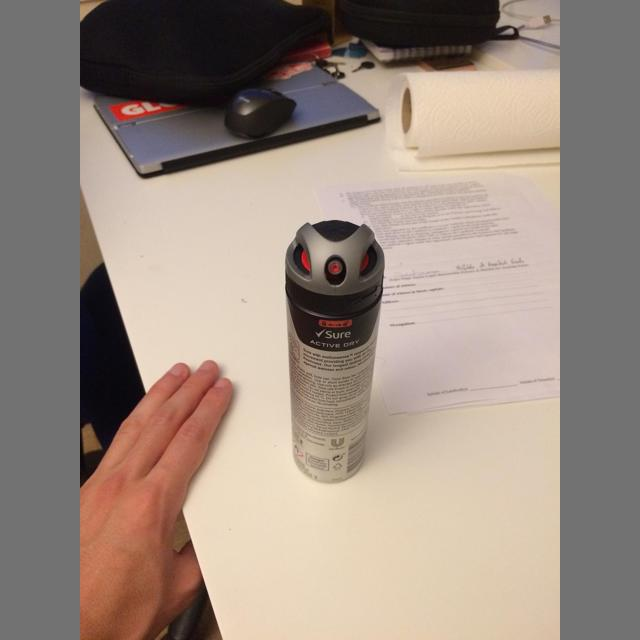litter: (312, 172, 560, 415), (285, 220, 385, 483), (385, 69, 560, 171), (402, 88, 411, 133)
